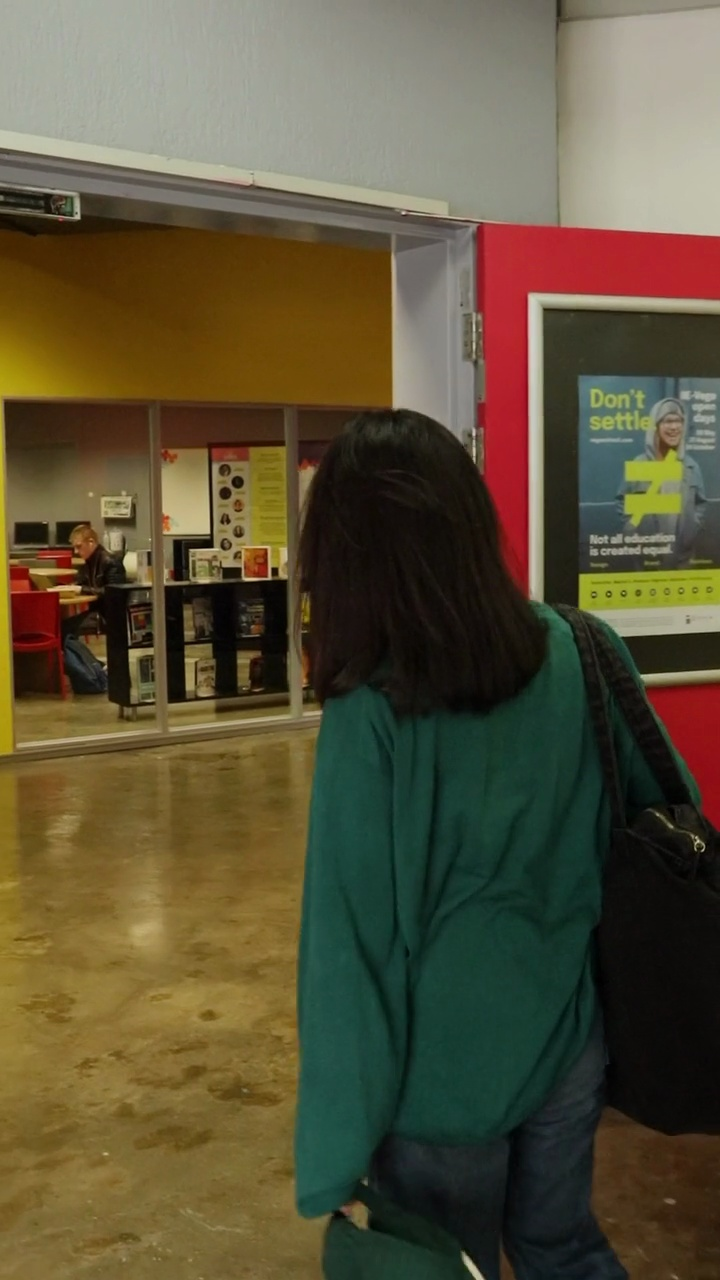dates_box: (166, 573, 288, 701)
electronics: (0, 130, 433, 739), (0, 248, 224, 1145), (551, 339, 720, 856)
perfume_bottle: (0, 0, 720, 707), (219, 0, 720, 675), (197, 0, 583, 773), (0, 148, 414, 769), (399, 1, 720, 664), (0, 153, 209, 820), (552, 343, 720, 864)
